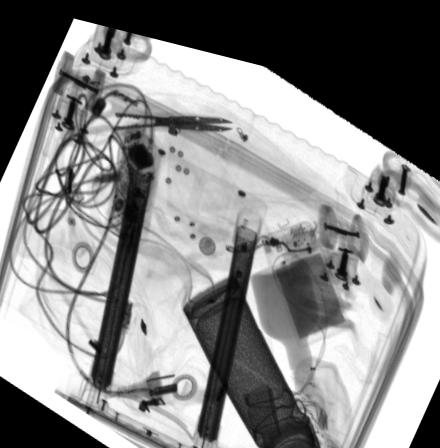Powerbank: (260, 207, 352, 335)
Scissors: (70, 76, 235, 157)
